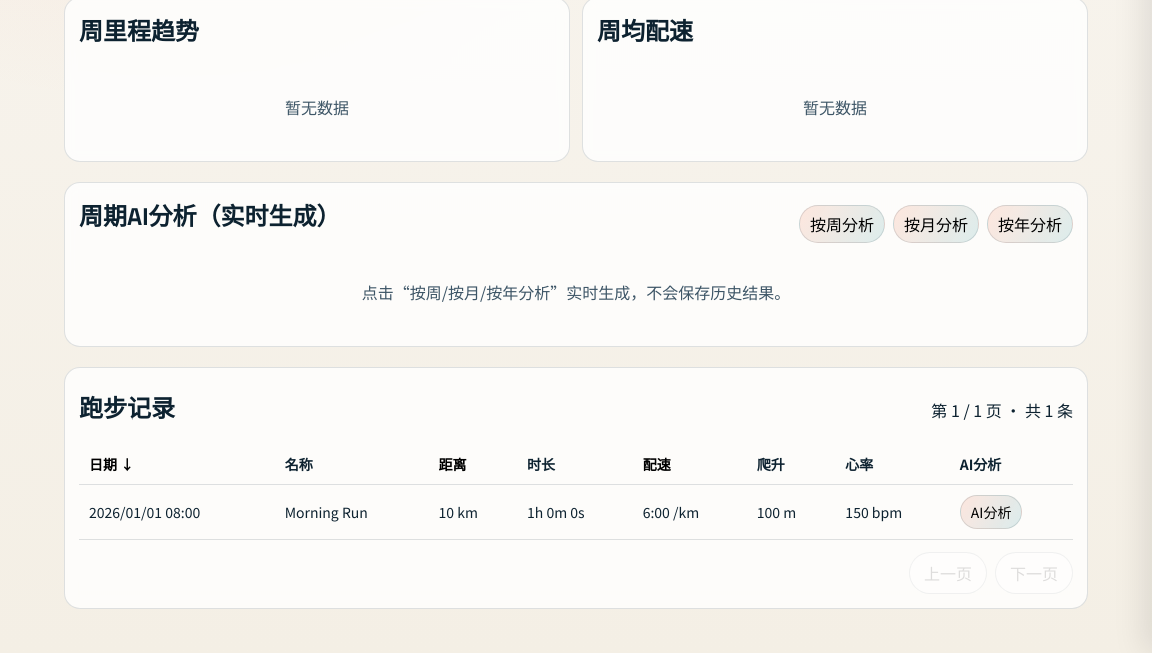
Test: App › loads persisted analysis when opening detail
This screenshot has width=1152, height=653.
(page scrolled)
Click the text "Morning Run" at (352, 512), box [275,484,428,539]
(page scrolled)
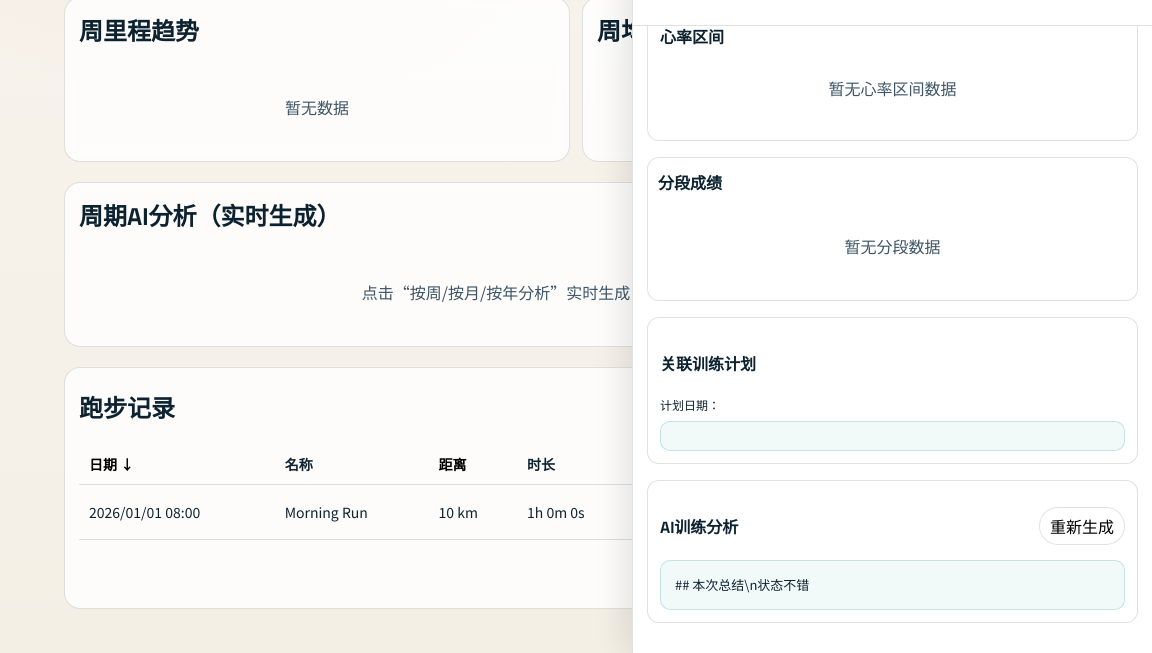
Check: the text "## 本次总结\\n状态不错" is shown, box [660,560,1125,610]
